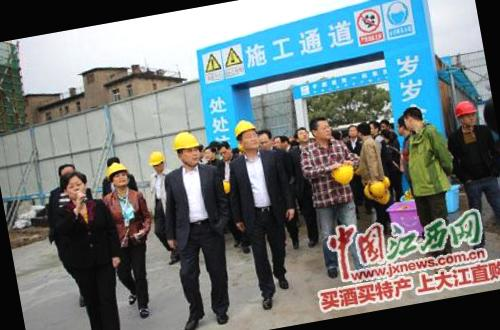no_helmet: (58, 164, 92, 202), (397, 103, 430, 139), (308, 113, 335, 144), (253, 126, 275, 156), (352, 120, 374, 144), (289, 124, 312, 146), (215, 139, 234, 163)
